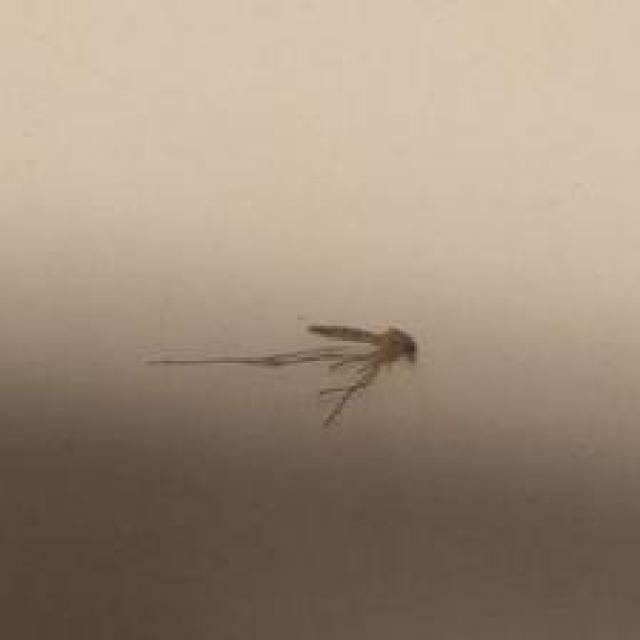Culex: (143, 322, 420, 427)
